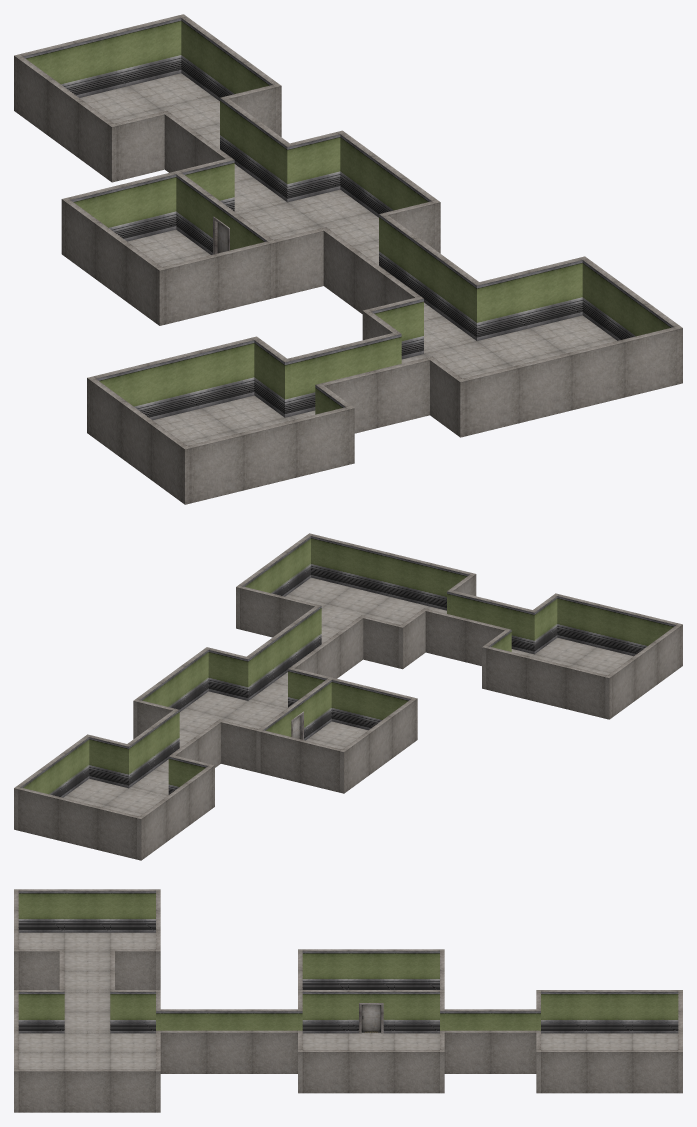
File: mapInsideB1.fbx
3 views of the same model, one above another, from view 1: azimuth 30°, elevation 25°; view 2: azimuth 150°, elevation 25°; view 3: azimuth 270°, elevation 25° (orthographic). The views are drawn at different scales.
Visible parts, largest first — view 1: Wall27, Wall31, Wall17, Wall2, Wall10, Wall25, Wall11, Wall16, Wall1, Floor3, Wall24, Wall29 (+25 smaller); view 2: Wall27, Wall2, Wall17, Wall31, Floor3, Wall12, Wall11, Wall16, Wall1, Wall24, Wall4, Wall10 (+24 smaller); view 3: Wall1, Wall26, Wall24, Wall22, Wall18, Wall16, Wall11, Wall9, Floor3, Floor1, Wall20, Wall7 (+14 smaller).
Boxes of the visible parts, bbox=[...] form: Wall27: bbox=[457, 325, 682, 437]; Wall31: bbox=[182, 406, 354, 504]; Wall17: bbox=[14, 14, 186, 112]; Wall2: bbox=[87, 336, 259, 434]; Wall10: bbox=[156, 241, 270, 325]; Wall25: bbox=[473, 256, 587, 340]; Wall11: bbox=[65, 200, 161, 323]; Wall16: bbox=[17, 56, 113, 179]; Wall1: bbox=[90, 379, 186, 502]; Floor3: bbox=[401, 315, 616, 378]; Wall24: bbox=[382, 215, 478, 338]; Wall29: bbox=[321, 357, 429, 433]; Wall27: bbox=[307, 533, 476, 610]; Wall2: bbox=[482, 645, 611, 719]; Wall17: bbox=[14, 786, 143, 860]; Wall31: bbox=[553, 593, 682, 667]; Floor3: bbox=[285, 577, 446, 643]; Wall12: bbox=[260, 730, 346, 793]; Wall11: bbox=[342, 699, 415, 791]; Wall16: bbox=[140, 766, 212, 858]; Wall1: bbox=[608, 625, 680, 717]; Wall24: bbox=[247, 606, 319, 698]; Wall4: bbox=[425, 609, 506, 665]; Wall10: bbox=[331, 678, 417, 741]; Wall1: bbox=[18, 889, 155, 932]; Wall26: bbox=[18, 1069, 155, 1112]; Wall24: bbox=[160, 1030, 297, 1073]; Wall22: bbox=[302, 1050, 439, 1093]; Wall18: bbox=[541, 1050, 678, 1093]; Wall16: bbox=[541, 990, 678, 1033]; Wall11: bbox=[302, 949, 439, 989]; Wall9: bbox=[302, 990, 439, 1033]; Floor3: bbox=[18, 1033, 155, 1069]; Floor1: bbox=[18, 932, 155, 990]; Wall20: bbox=[444, 1030, 536, 1073]; Wall7: bbox=[160, 1009, 297, 1030].
Size of the model in its own units: 26.85 by 2.85 by 41.7.
Materials: 5 (5 with a texture image).
